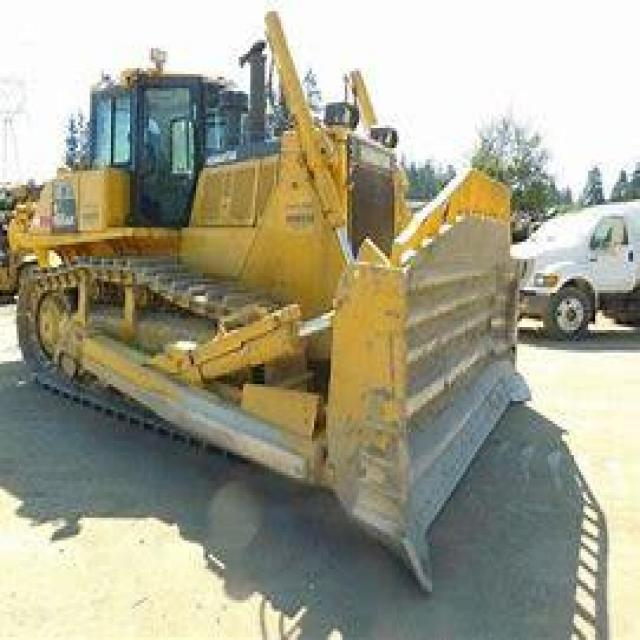Bulldozer: (4, 6, 546, 600)
